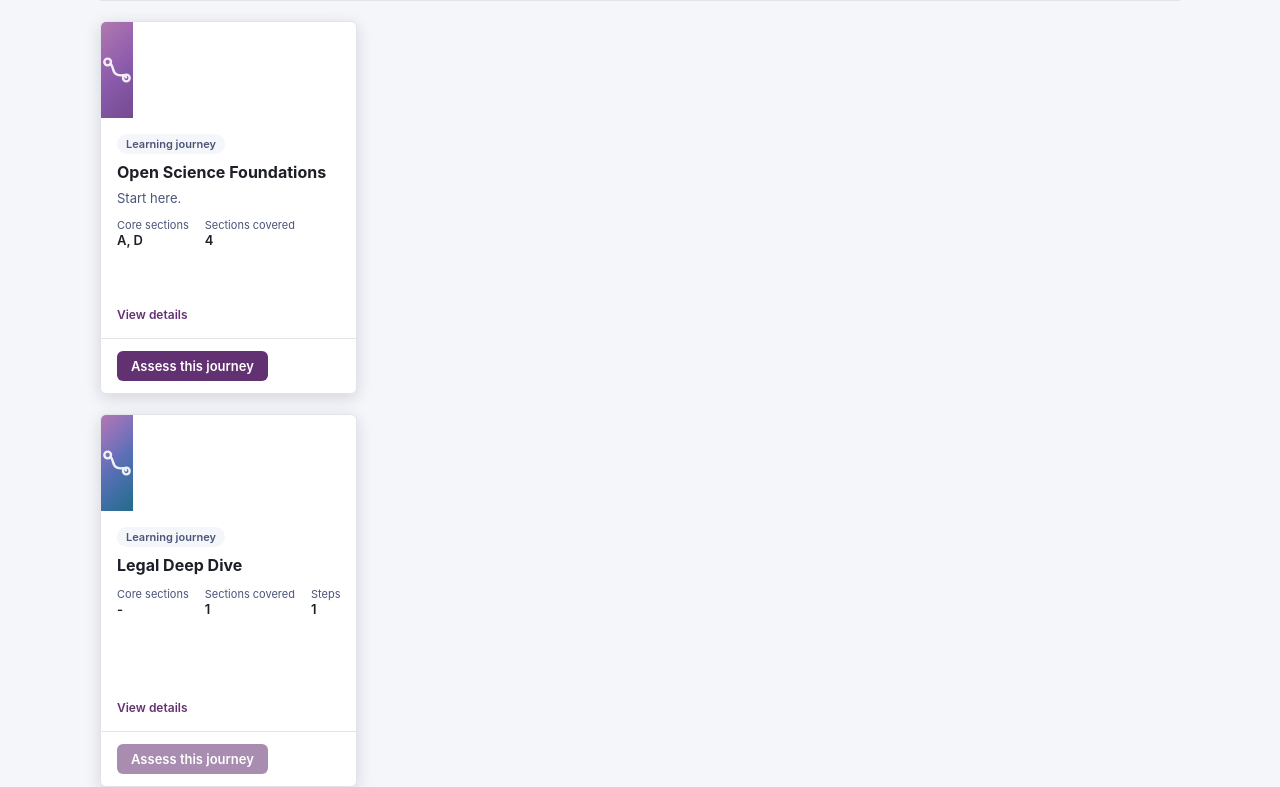
Test: LearningJourneysPage › opens a journey's details in a modal, and closes it again
(page scrolled)
Click the button named "view details".
click(229, 573)  # box [101,415,356,731]
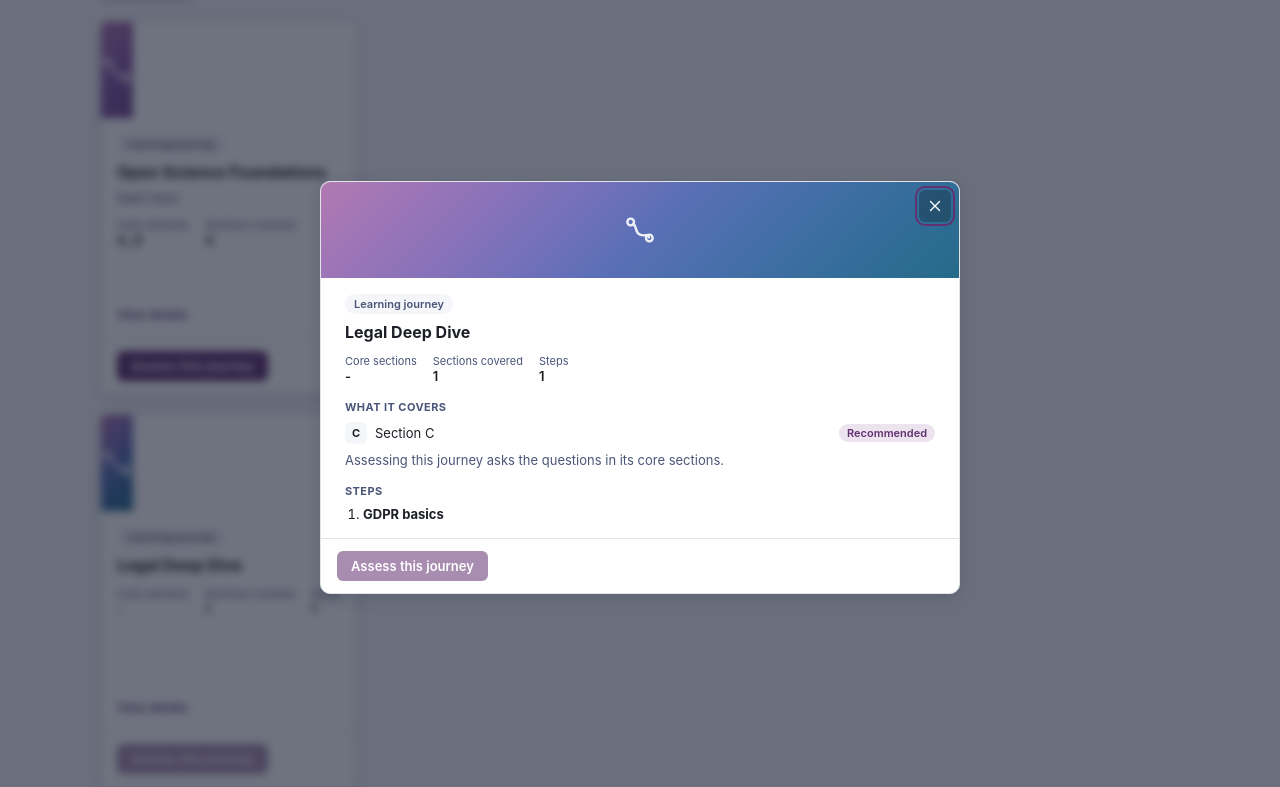
Result: the dialog "Legal Deep Dive" shows "What it covers" at [345,400,446,414]
Result: the dialog "Legal Deep Dive" shows "GDPR basics" at [363,506,444,522]
Click the button named "Close journey".
click(935, 206)  # box [919,190,951,222]
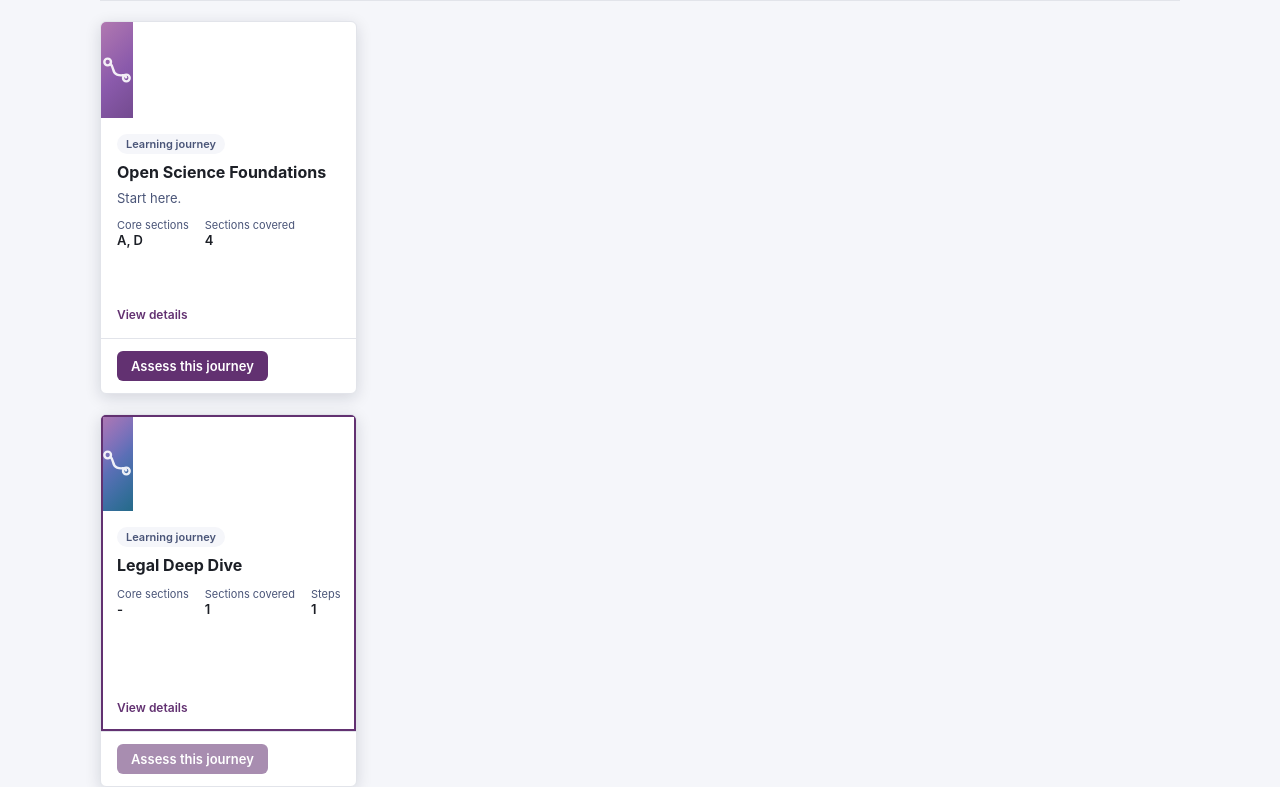
Result: the dialog is gone
